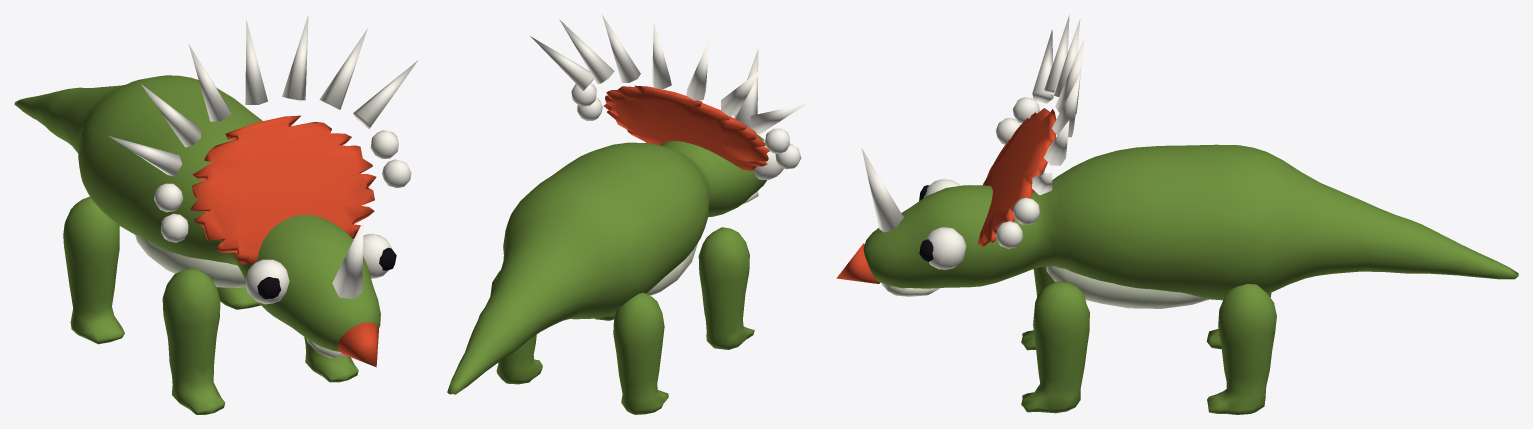
File: Dino_Styracosaurus.fbx
The picture shows the model from 3 angles, left to right: view 1: azimuth 30°, elevation 25°; view 2: azimuth 150°, elevation 25°; view 3: azimuth 270°, elevation 25°; orthographic projection. The views are drawn at different scales.
Visible parts, largest first — view 1: Body, Accent, EyeWhite, LegFL, LegBL, Belly, LegFR, Pupil, LegBR; view 2: Body, EyeWhite, Accent, LegFL, LegBL, LegBR, Belly; view 3: Body, EyeWhite, LegFR, LegBR, Accent, Belly, LegFL.
Part boxes in pixels (x1,y1,x2,y2): Body: (14, 75, 380, 351); Accent: (190, 115, 378, 367); EyeWhite: (108, 15, 417, 304); LegFL: (162, 268, 224, 414); LegBL: (63, 196, 124, 344); Belly: (135, 234, 347, 358); LegFR: (304, 337, 358, 382); Pupil: (257, 247, 396, 299); LegBR: (217, 287, 260, 309); Body: (447, 134, 766, 394); EyeWhite: (530, 14, 806, 179); Accent: (603, 85, 769, 170); LegFL: (698, 227, 754, 349); LegBL: (613, 292, 668, 414); LegBR: (490, 270, 542, 384); Belly: (646, 191, 758, 295); Body: (863, 144, 1518, 300); EyeWhite: (861, 15, 1084, 269); LegFR: (1021, 281, 1089, 413); LegBR: (1207, 284, 1276, 414); Accent: (836, 108, 1056, 283); Belly: (881, 266, 1209, 308); LegFL: (1021, 266, 1055, 350).
Size of the model in its own units: 3.96 by 4.35 by 7.9.
